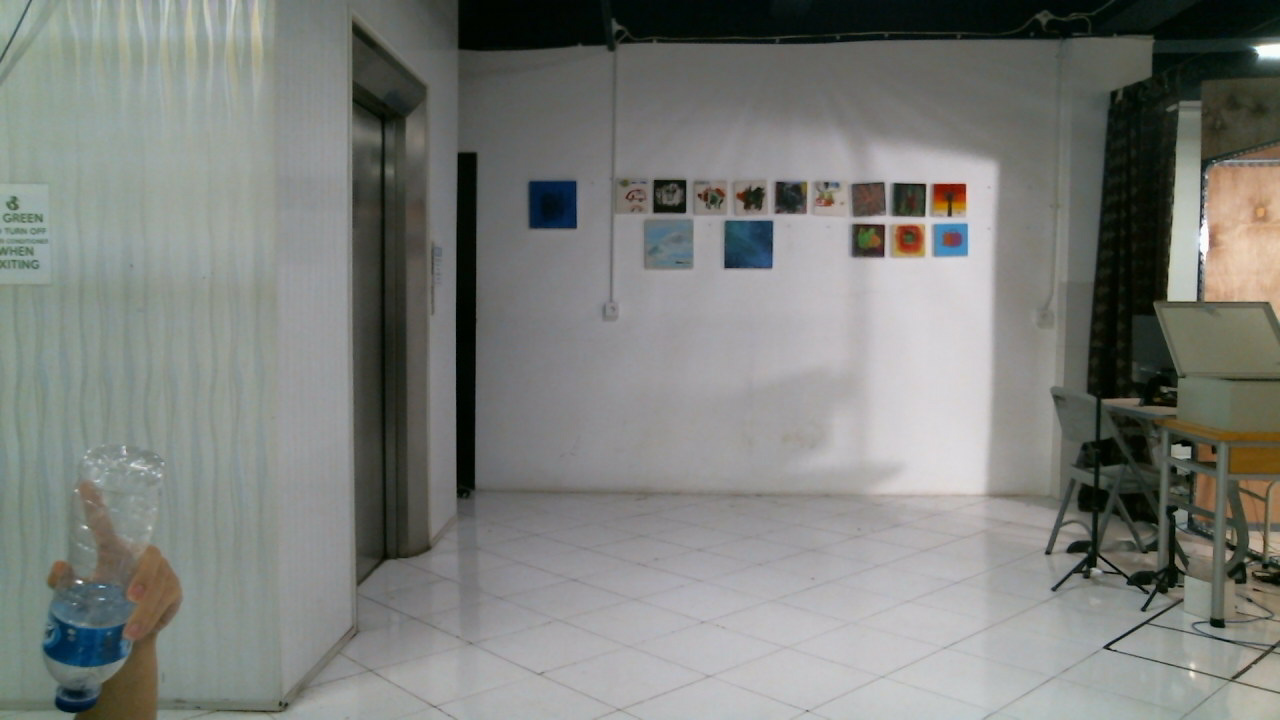Bottle: (45, 444, 161, 710)
